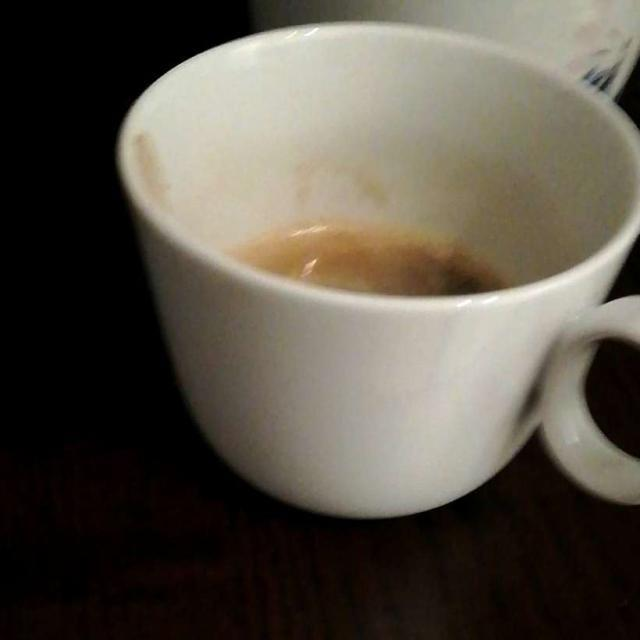coffee: (238, 225, 515, 300)
